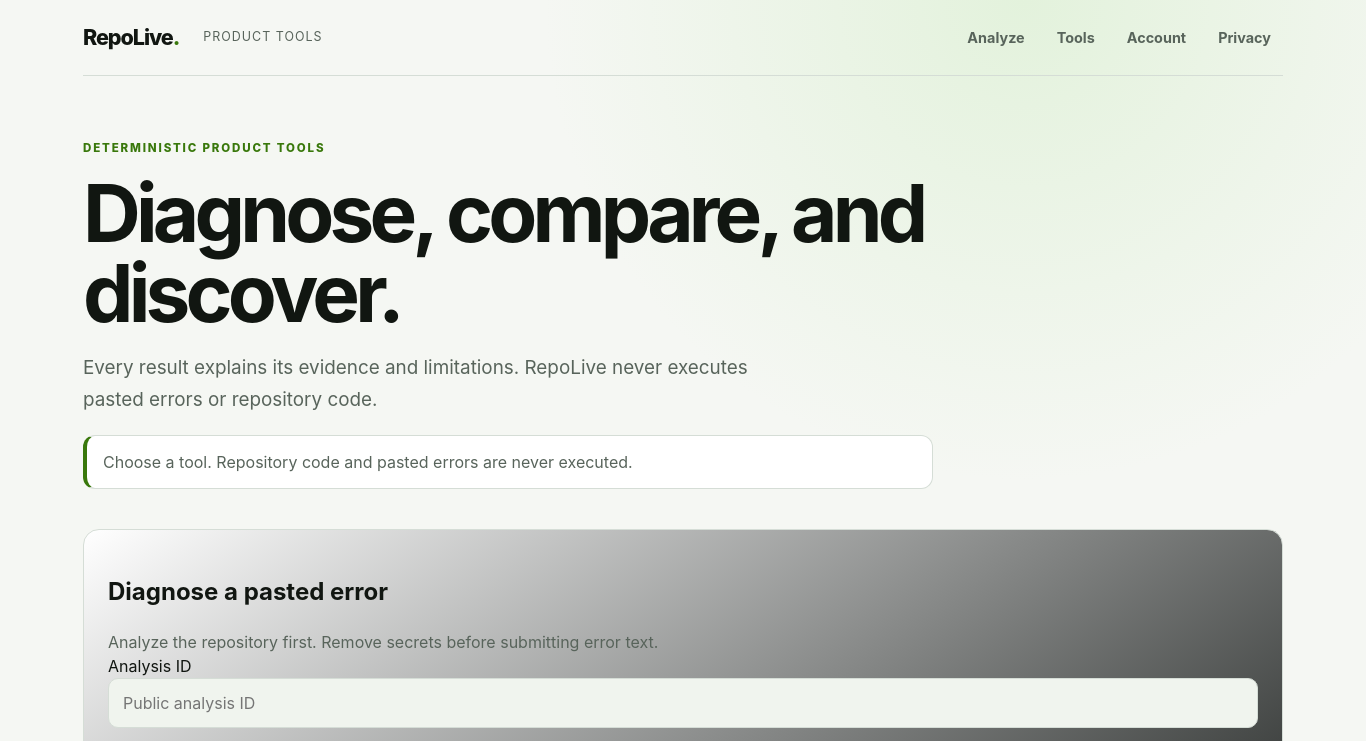
Test case: product tools › diagnoses pasted errors without rendering the hostile input
In the field with placeholder "Public analysis ID": (683, 703) [108,678,1258,728], type "analysis-id"
(page scrolled)
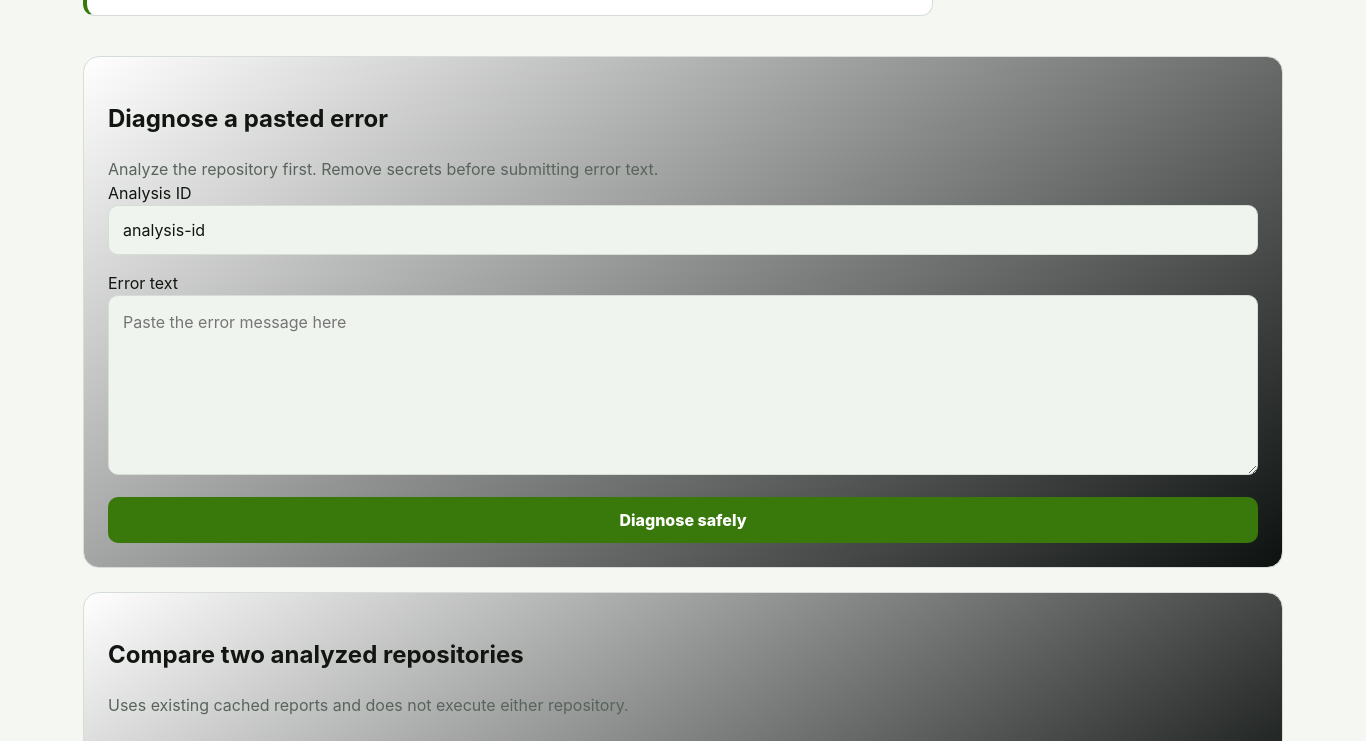
In the text box with placeholder "Paste the error message here": (683, 385) [108,295,1258,475], type "<script>secret()</script> ModuleNotFoundError"
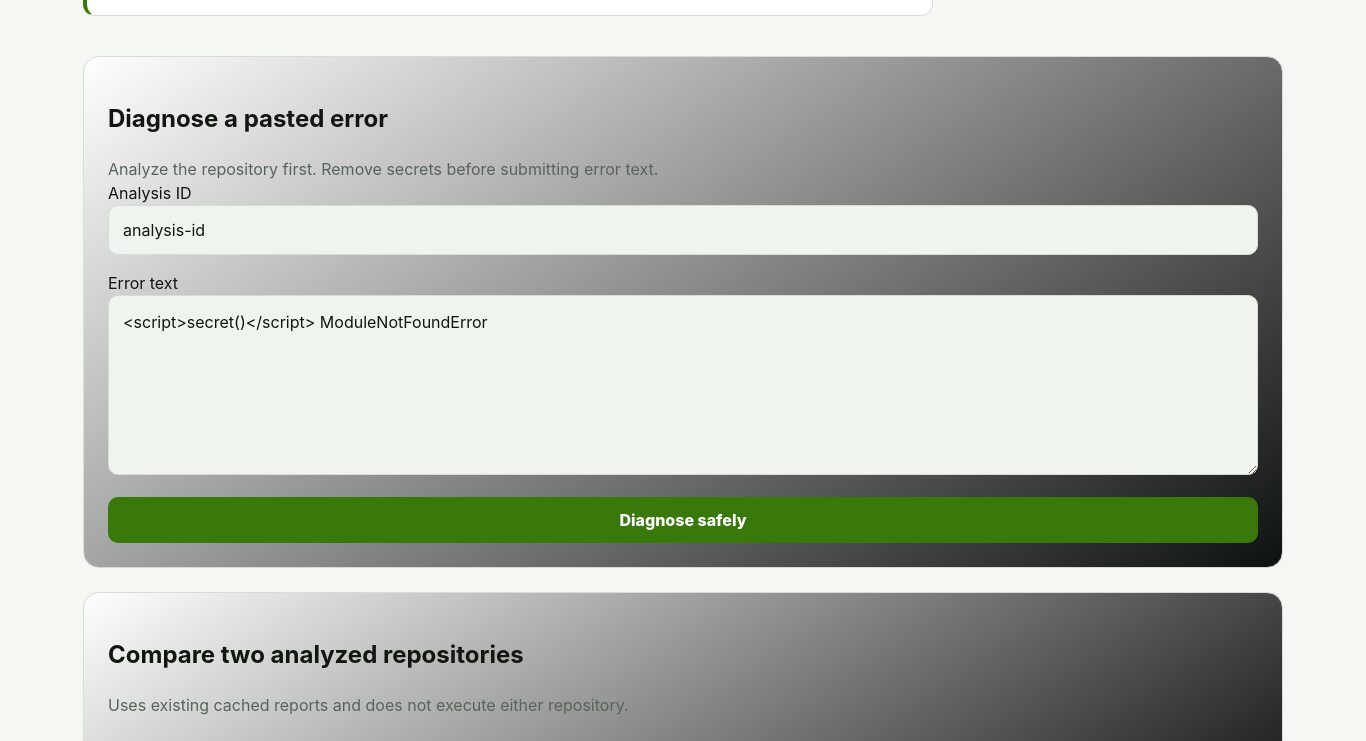
Click the button "Diagnose safely": (683, 520) [108,497,1258,543]
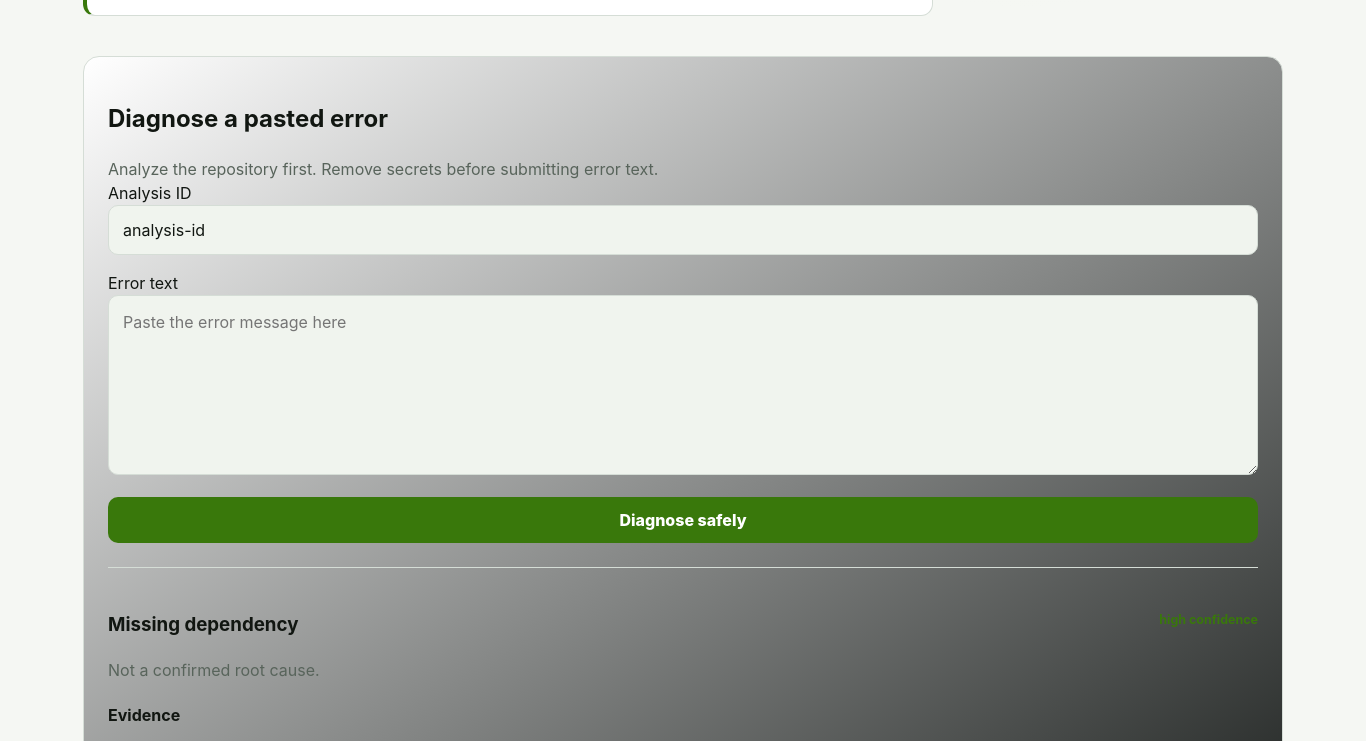
Expected: the text "secret()" is not shown
Now the heading "Missing dependency high confidence" is shown, box [108,611,1258,639]
